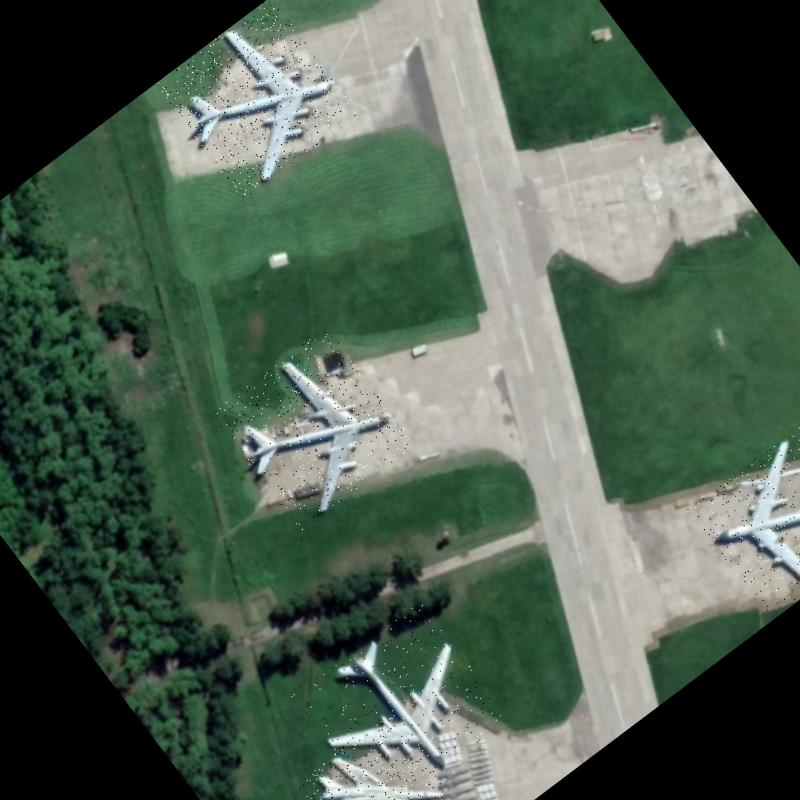A12: (295, 712, 450, 800)
A17: (291, 599, 509, 800), (211, 326, 416, 532), (155, 0, 359, 200), (687, 419, 800, 620)
